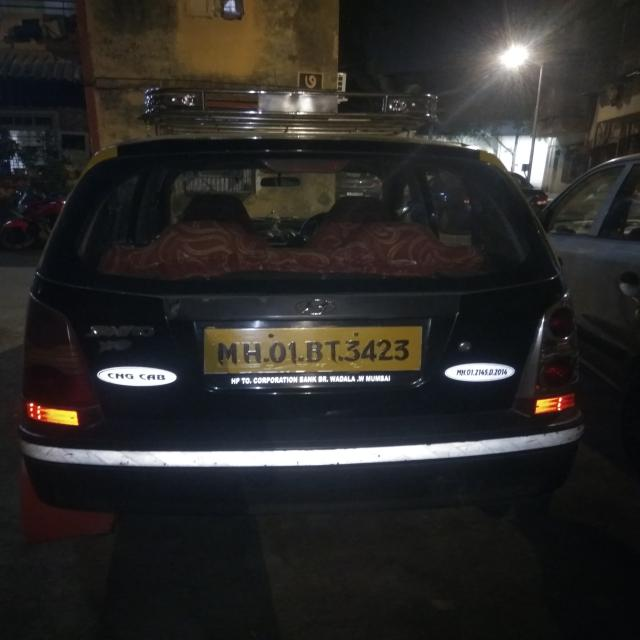Number-Plate: (213, 328, 427, 372)
